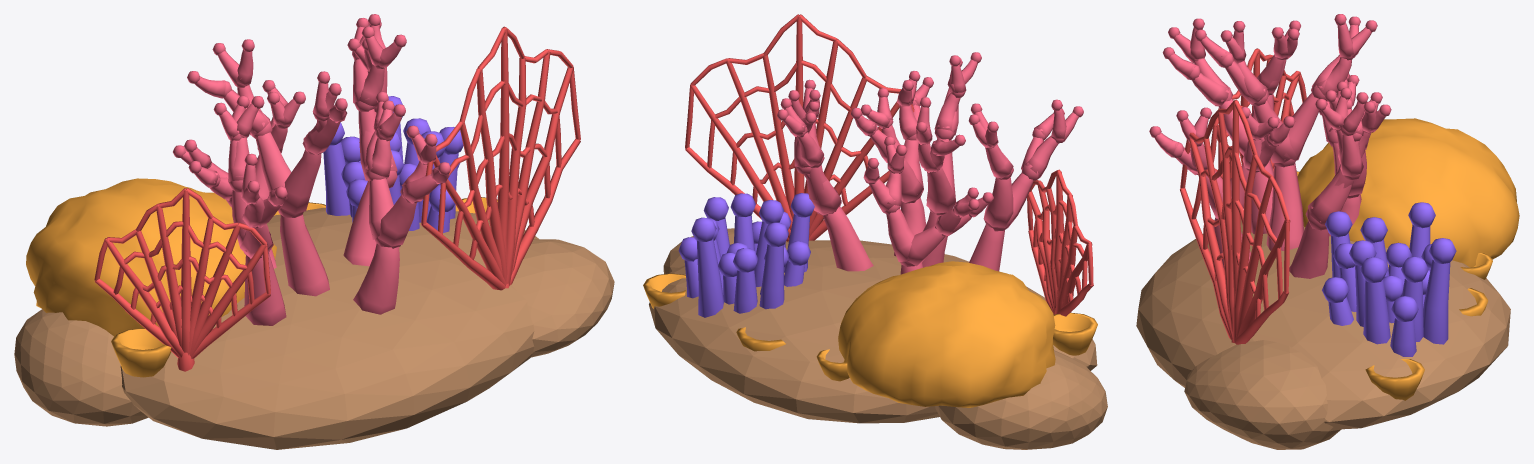
The model's file is SharkBaitCoral.obj.
3 renders of one model, left to right at view 1: azimuth 30°, elevation 25°; view 2: azimuth 150°, elevation 25°; view 3: azimuth 270°, elevation 25°, orthographic. The views are drawn at different scales.
Parts seen in each view (by area): view 1: Rock, CoralA, Fan, CoralB, CoralC; view 2: Rock, CoralB, CoralA, Fan, CoralC; view 3: Rock, CoralA, CoralB, Fan, CoralC.
Boxes of the visible parts, x1=… form: Rock: x1=14, y1=207, x2=614, y2=449; CoralA: x1=173, y1=14, x2=450, y2=325; Fan: x1=94, y1=26, x2=580, y2=371; CoralB: x1=26, y1=178, x2=497, y2=377; CoralC: x1=323, y1=96, x2=463, y2=232; Rock: x1=649, y1=228, x2=1107, y2=449; CoralB: x1=643, y1=261, x2=1097, y2=407; CoralA: x1=777, y1=52, x2=1083, y2=274; Fan: x1=685, y1=14, x2=1093, y2=316; CoralC: x1=678, y1=193, x2=814, y2=317; Rock: x1=1136, y1=219, x2=1510, y2=449; CoralA: x1=1149, y1=14, x2=1391, y2=278; CoralB: x1=1296, y1=118, x2=1519, y2=400; Fan: x1=1180, y1=48, x2=1306, y2=344; CoralC: x1=1322, y1=202, x2=1456, y2=356.
Bounding box in the file's own units: 9.33 × 6 × 6.28.
